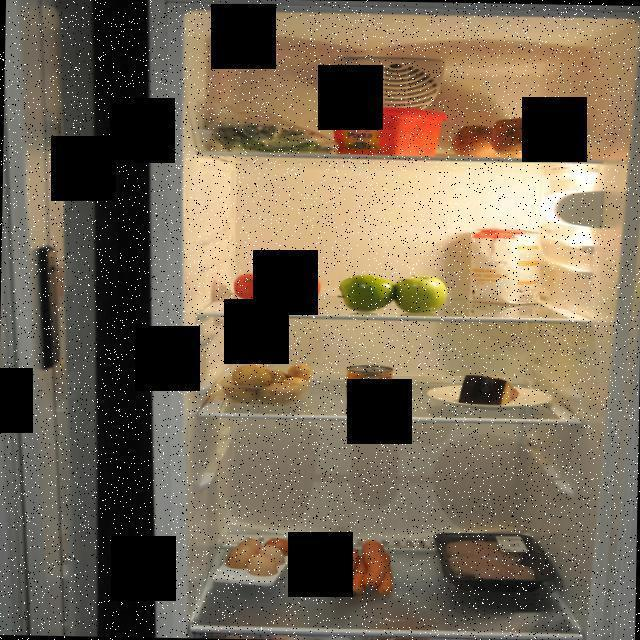apple: (339, 270, 450, 314)
butter: (327, 104, 448, 160)
carrot: (321, 538, 396, 600)
cheese: (454, 373, 522, 407)
chicken_breast: (442, 534, 539, 589)
corn: (345, 364, 395, 406)
egg: (223, 534, 294, 578)
green_beans: (198, 110, 340, 154)
potato: (219, 358, 315, 410)
sugar: (468, 227, 544, 306)
sweet_potato: (444, 112, 585, 162)
tomato: (232, 261, 324, 304)
